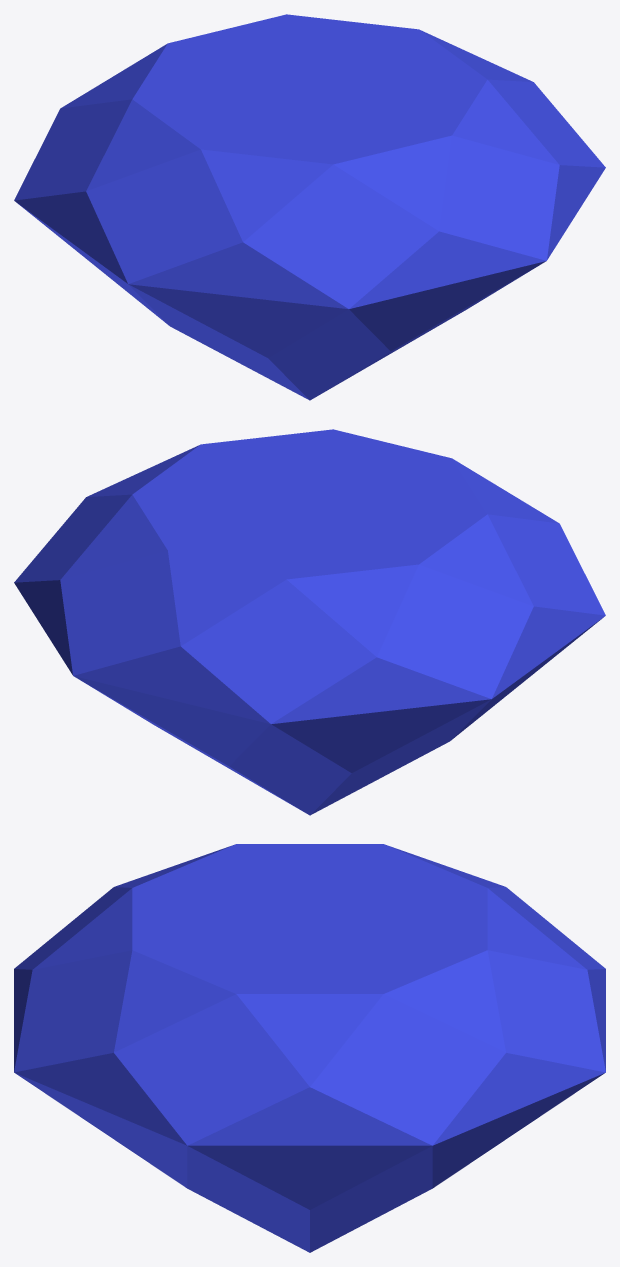
Rendered from Diamant.gltf.
3 renders of one model, top to bottom at view 1: azimuth 30°, elevation 25°; view 2: azimuth 150°, elevation 25°; view 3: azimuth 270°, elevation 25°, orthographic. The views are drawn at different scales.
Parts seen in each view (by area): view 1: Gem; view 2: Gem; view 3: Gem.
Boxes of the visible parts, bbox=[...] form: Gem: bbox=[14, 14, 605, 400]; Gem: bbox=[14, 429, 605, 815]; Gem: bbox=[14, 844, 605, 1252].
Size of the model in its own units: 1.85 by 1.15 by 1.85.
